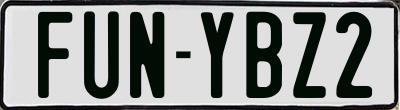2: (335, 11, 375, 100)
B: (243, 11, 285, 97)
F: (38, 10, 75, 102)
N: (128, 10, 168, 98)
U: (81, 10, 119, 98)
Y: (198, 11, 234, 99)
Z: (290, 11, 323, 101)
